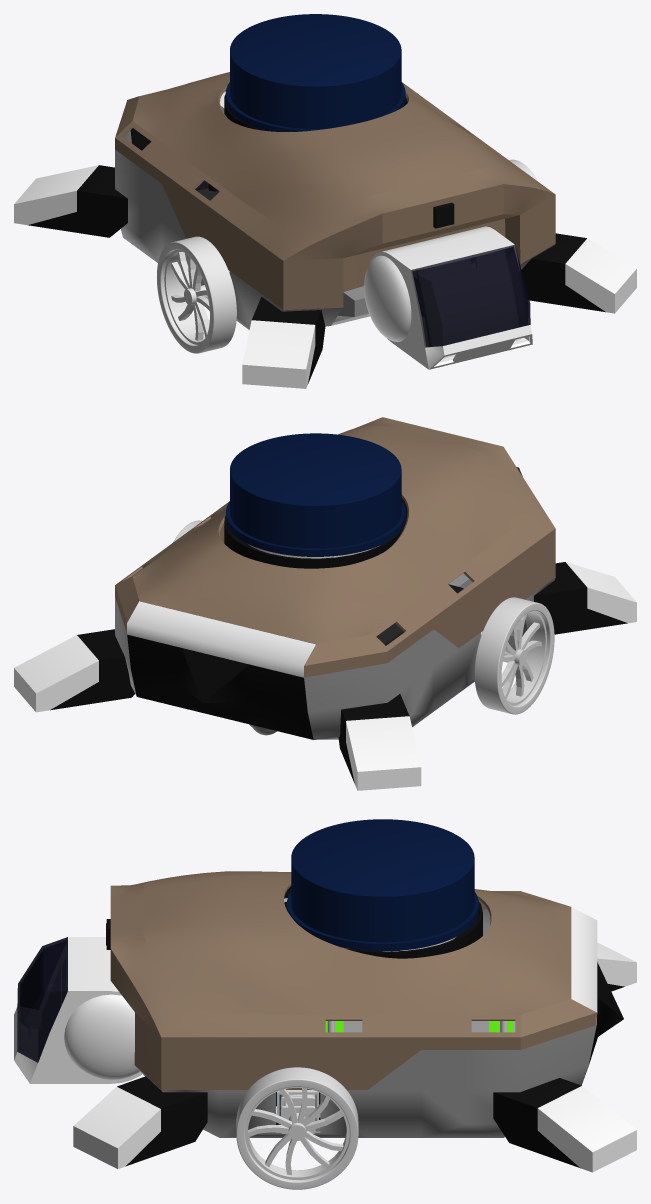
The picture shows the model from 3 angles, top to bottom: view 1: azimuth 30°, elevation 25°; view 2: azimuth 150°, elevation 25°; view 3: azimuth 270°, elevation 25°; orthographic projection. The views are drawn at different scales.
Visible parts, largest first — view 1: Turtle_case, Cylinder024, Object010, Head, Object006, Box070, Box185, Box184, Cylinder017, Sphere002, Cylinder018; view 2: Turtle_case, Cylinder024, Back_door, Object006, Box071, Box185, Box184, Cylinder017, Cylinder025, Cylinder018; view 3: Turtle_case, Cylinder024, Object006, Box071, Box070, Head, Sphere001, Cylinder054, Object010, Back_door, Cylinder025, Cylinder055 (+4 smaller).
Part boxes in pixels (bbox=[...]): Turtle_case: bbox=[115, 72, 555, 310]; Cylinder024: bbox=[226, 14, 405, 131]; Object010: bbox=[411, 244, 530, 347]; Head: bbox=[369, 226, 532, 369]; Object006: bbox=[115, 130, 555, 329]; Box070: bbox=[521, 233, 636, 313]; Box185: bbox=[14, 165, 127, 237]; Box184: bbox=[242, 296, 325, 388]; Cylinder017: bbox=[157, 236, 236, 353]; Sphere002: bbox=[364, 255, 411, 342]; Cylinder018: bbox=[164, 250, 204, 344]; Turtle_case: bbox=[115, 417, 555, 677]; Cylinder024: bbox=[226, 433, 405, 556]; Back_door: bbox=[127, 601, 315, 739]; Object006: bbox=[115, 573, 555, 739]; Box071: bbox=[14, 629, 134, 712]; Box185: bbox=[338, 694, 421, 790]; Box184: bbox=[534, 562, 636, 634]; Cylinder017: bbox=[474, 597, 554, 714]; Cylinder025: bbox=[224, 497, 407, 568]; Cylinder018: bbox=[506, 610, 546, 705]; Turtle_case: bbox=[110, 871, 596, 1089]; Cylinder024: bbox=[287, 819, 478, 951]; Object006: bbox=[136, 909, 596, 1137]; Box071: bbox=[493, 1078, 636, 1172]; Box070: bbox=[73, 1076, 207, 1168]; Head: bbox=[14, 937, 142, 1083]; Sphere001: bbox=[64, 994, 139, 1080]; Cylinder054: bbox=[236, 1067, 358, 1189]; Object010: bbox=[17, 937, 67, 1062]; Back_door: bbox=[571, 907, 623, 1085]; Cylinder025: bbox=[284, 886, 482, 958]; Cylinder055: bbox=[245, 1087, 349, 1179].
Bounding box in the file's own units: 6.8 × 3.66 × 8.43.
